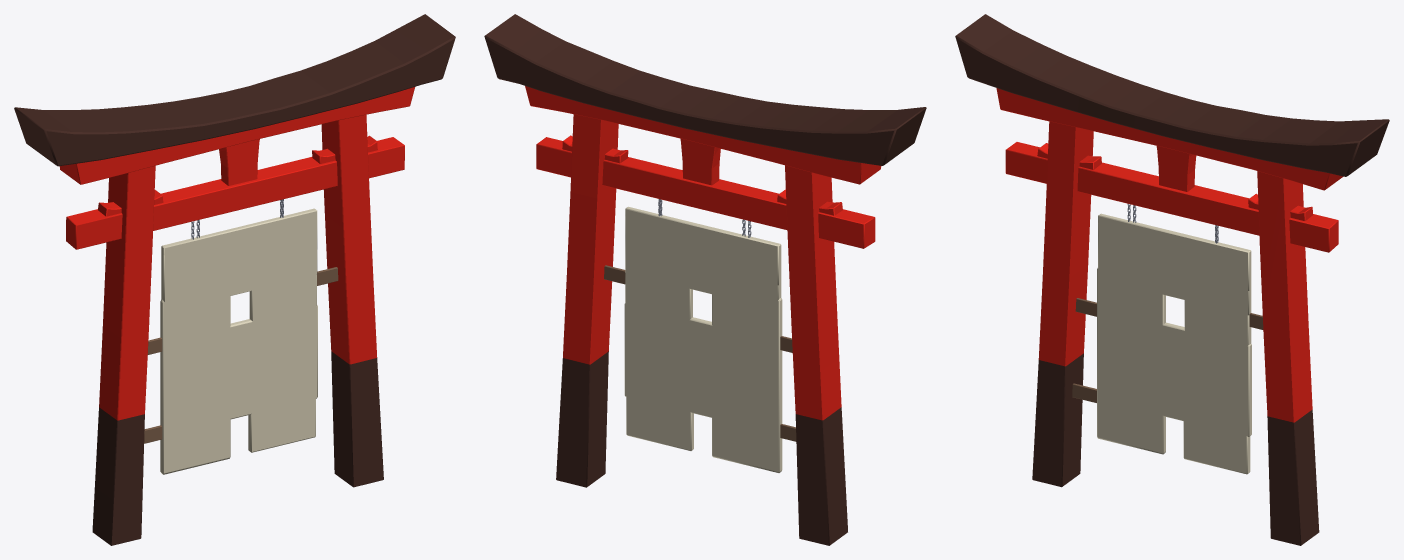
The model's file is torii_gate_all_signs.fbx.
3 renders of one model, left to right at view 1: azimuth 30°, elevation 25°; view 2: azimuth 150°, elevation 25°; view 3: azimuth 330°, elevation 25°, orthographic.
Parts seen in each view (by area): view 1: torii_gate, sign_middle01, signpost_left02, sign_top01, sign_level_complete01, signpost_right01, sign_newhighscore01, sign_scorenumber01; view 2: torii_gate, signpost_left02, sign_middle01, sign_top01, sign_level_complete01, sign_newhighscore01, signpost_right01; view 3: torii_gate, sign_middle01, signpost_left02, sign_top01, sign_level_complete01, sign_newhighscore01, signpost_right01, sign_scorenumber01.
Boxes of the visible parts, x1,y1,x2,y2 form: torii_gate: (14, 14, 455, 545); sign_middle01: (164, 305, 317, 434); signpost_left02: (144, 287, 230, 474); sign_top01: (161, 235, 317, 311); sign_level_complete01: (161, 208, 317, 286); signpost_right01: (249, 265, 338, 327); sign_newhighscore01: (248, 386, 315, 452); sign_scorenumber01: (263, 337, 304, 378); torii_gate: (484, 14, 926, 545); signpost_left02: (712, 290, 796, 472); sign_middle01: (624, 303, 712, 417); sign_top01: (625, 216, 781, 300); sign_level_complete01: (625, 206, 781, 285); sign_newhighscore01: (626, 396, 693, 450); signpost_right01: (604, 265, 692, 329); torii_gate: (955, 14, 1389, 545); sign_middle01: (1098, 309, 1251, 436); signpost_left02: (1072, 268, 1165, 454); sign_top01: (1098, 223, 1251, 315); sign_level_complete01: (1098, 213, 1251, 290); sign_newhighscore01: (1183, 408, 1250, 474); signpost_right01: (1184, 290, 1263, 355); sign_scorenumber01: (1194, 361, 1236, 401).
Bounding box in the file's own units: 293 × 299 × 38.88.
